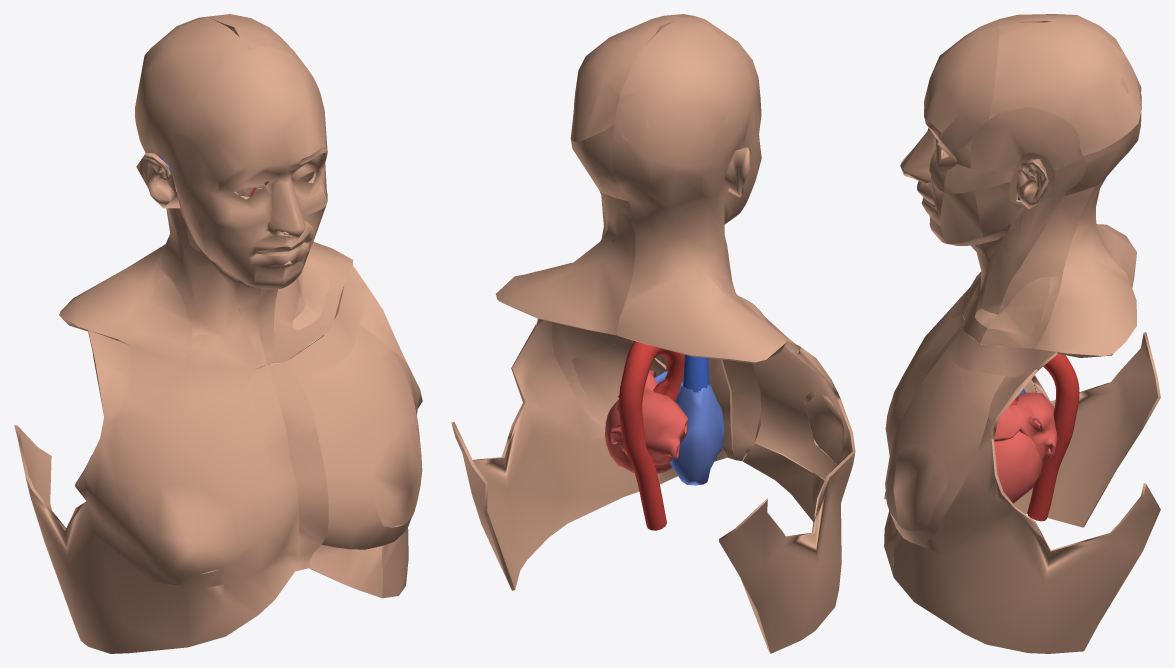
File: brain_scene_v1_lite.glb
3 renders of one model, left to right at view 1: azimuth 30°, elevation 25°; view 2: azimuth 150°, elevation 25°; view 3: azimuth 270°, elevation 25°, orthographic. The views are drawn at different scales.
Parts seen in each view (by area): view 1: regions.thorax_surface, regions.head_neck_surface; view 2: regions.head_neck_surface, regions.thorax_surface, cardiovascular.right_atrium, cardiovascular.thoracic_aorta, cardiovascular.left_atrium, cardiovascular.aortic_arch, cardiovascular.left_ventricle, cardiovascular.superior_vena_cava, cardiovascular.ascending_aorta; view 3: regions.head_neck_surface, regions.thorax_surface, cardiovascular.thoracic_aorta, cardiovascular.left_atrium, cardiovascular.left_ventricle, cardiovascular.aortic_arch.
Part boxes in pixels (bbox=[...]): regions.thorax_surface: bbox=[14, 265, 422, 653]; regions.head_neck_surface: bbox=[59, 14, 352, 369]; regions.head_neck_surface: bbox=[496, 14, 786, 363]; regions.thorax_surface: bbox=[451, 317, 855, 653]; cardiovascular.right_atrium: bbox=[670, 380, 724, 485]; cardiovascular.thoracic_aorta: bbox=[618, 376, 666, 530]; cardiovascular.left_atrium: bbox=[610, 370, 687, 464]; cardiovascular.aortic_arch: bbox=[622, 341, 684, 381]; cardiovascular.left_ventricle: bbox=[605, 399, 672, 473]; cardiovascular.superior_vena_cava: bbox=[683, 354, 709, 392]; cardiovascular.ascending_aorta: bbox=[653, 361, 684, 401]; regions.head_neck_surface: bbox=[900, 14, 1141, 357]; regions.thorax_surface: bbox=[884, 288, 1160, 653]; cardiovascular.thoracic_aorta: bbox=[1027, 367, 1079, 521]; cardiovascular.left_atrium: bbox=[994, 392, 1057, 464]; cardiovascular.left_ventricle: bbox=[994, 431, 1042, 503]; cardiovascular.aortic_arch: bbox=[1043, 354, 1072, 377].
Bounding box in the file's own units: 0.3614 × 0.5802 × 0.256.
